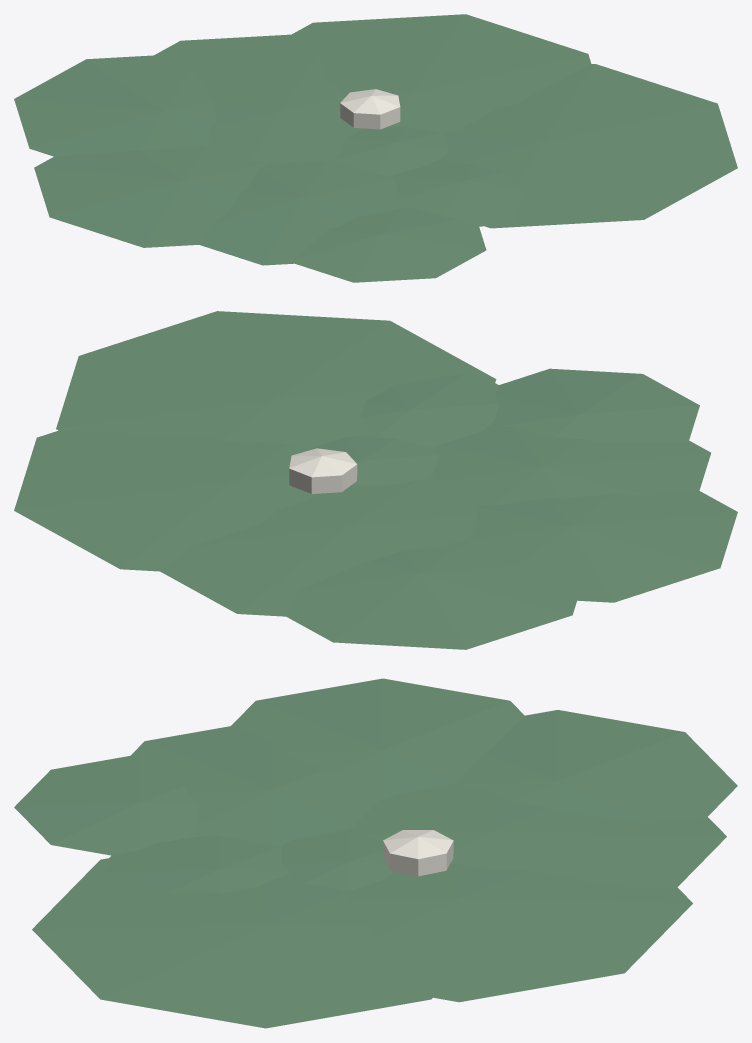
Rendered from dense-temperate-forest-flora-lily-pads-862cd35a__28404.glb.
3 renders of one model, top to bottom at view 1: azimuth 30°, elevation 25°; view 2: azimuth 150°, elevation 25°; view 3: azimuth 270°, elevation 25°, orthographic. The views are drawn at different scales.
Visible parts, largest first — view 1: lily-pads; view 2: lily-pads; view 3: lily-pads.
Part boxes in pixels (x1,y1,x2,y2): lily-pads: [14, 14, 737, 282]; lily-pads: [14, 311, 737, 649]; lily-pads: [14, 678, 737, 1028].
Size of the model in its own units: 1.84 by 0.0799 by 1.61.
